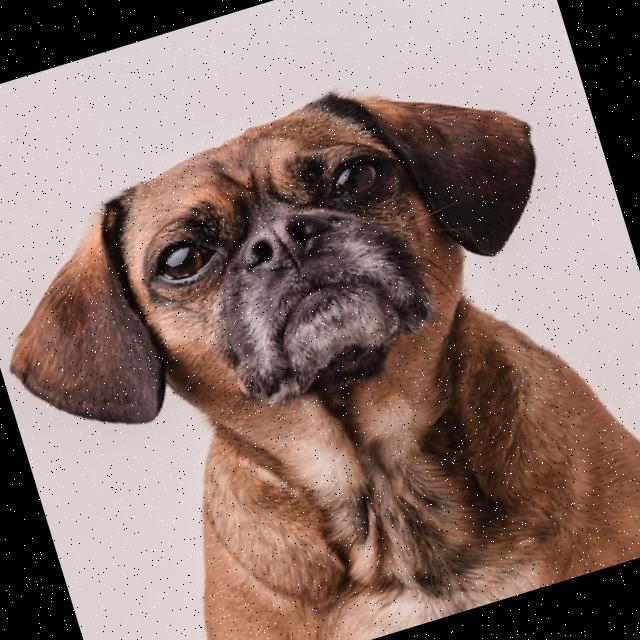Dog: (0, 26, 640, 640)
